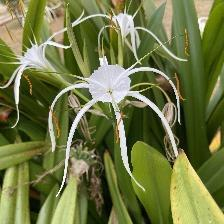spider lily: (46, 55, 184, 199)
